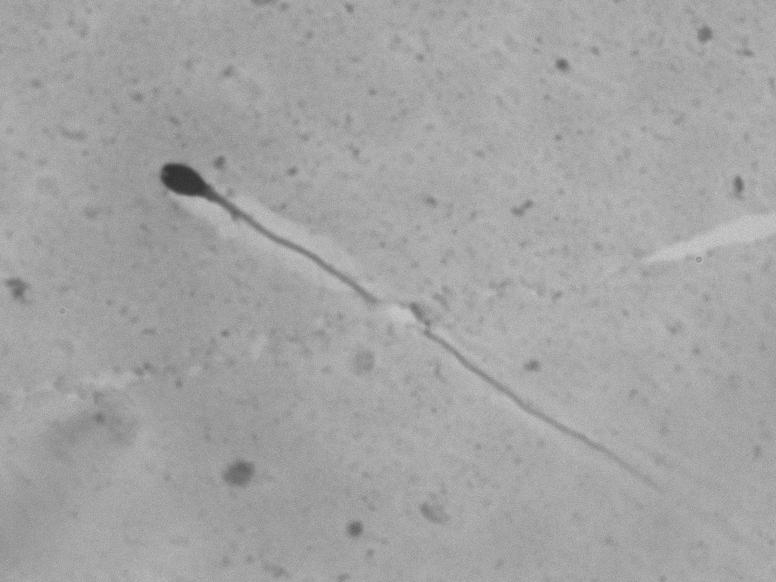Abnormal: (131, 137, 384, 346)
